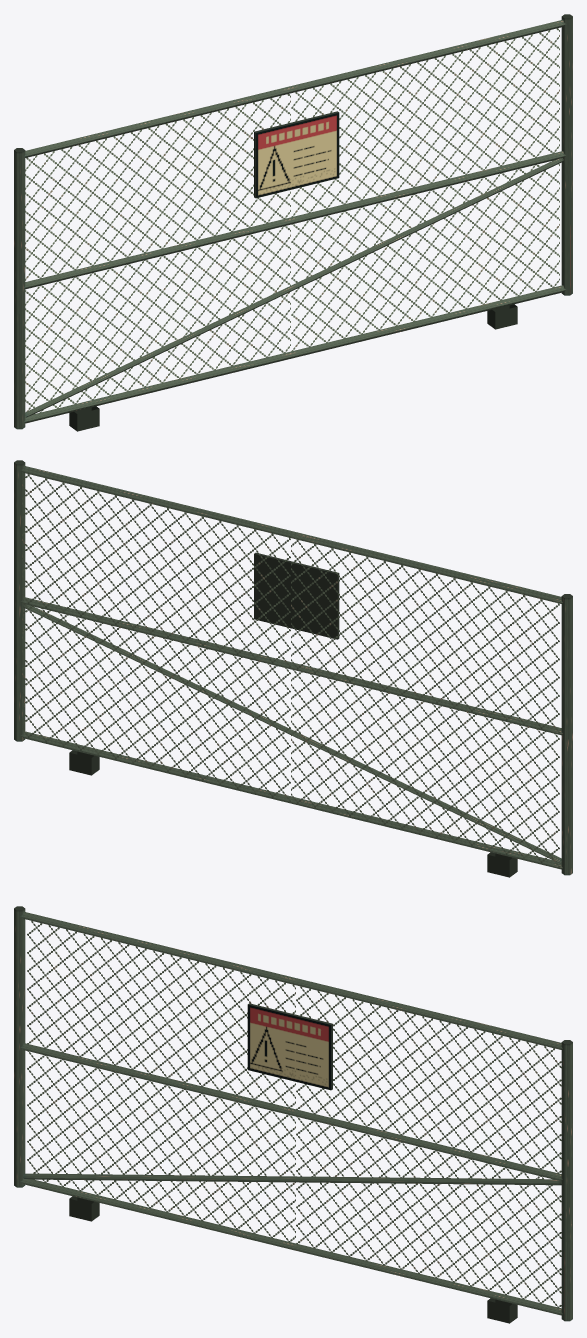
Rendered from SM_Forest_Gate_Sliding_400x10x200.fbx.
3 views of the same model, one above another, from view 1: azimuth 30°, elevation 25°; view 2: azimuth 150°, elevation 25°; view 3: azimuth 330°, elevation 25° (orthographic).
Parts seen in each view (by area): view 1: SM_Forest_Gate_Sliding_400x10x200.001; view 2: SM_Forest_Gate_Sliding_400x10x200.001; view 3: SM_Forest_Gate_Sliding_400x10x200.001.
Part boxes in pixels (x1,y1,x2,y2): SM_Forest_Gate_Sliding_400x10x200.001: (14, 14, 572, 431); SM_Forest_Gate_Sliding_400x10x200.001: (14, 460, 572, 877); SM_Forest_Gate_Sliding_400x10x200.001: (14, 906, 572, 1323).
Bounding box in the file's own units: 3.99 × 2 × 0.1.
